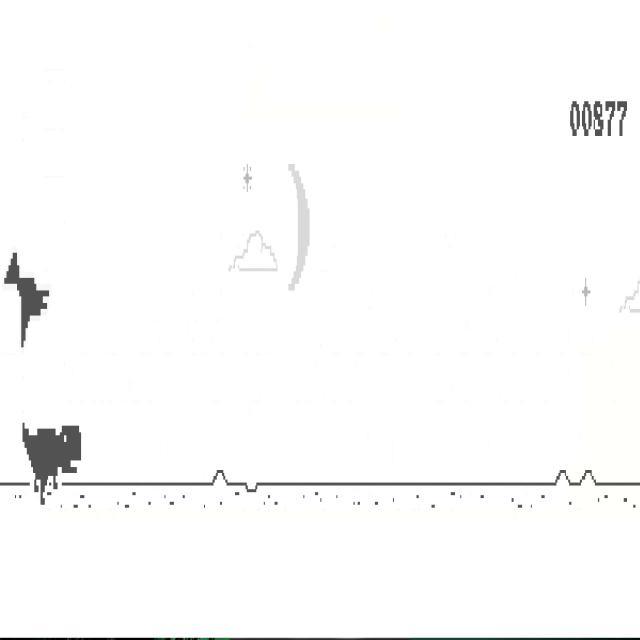dino: (22, 420, 82, 507)
ptero: (3, 249, 50, 353)
